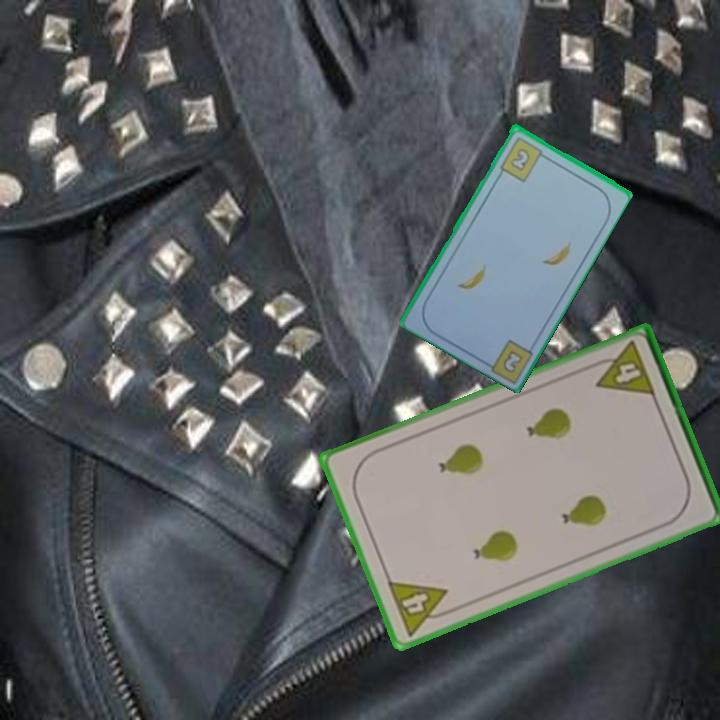2b: (496, 133, 550, 184), (499, 346, 526, 376)
4p: (383, 577, 458, 640), (586, 338, 658, 400)
